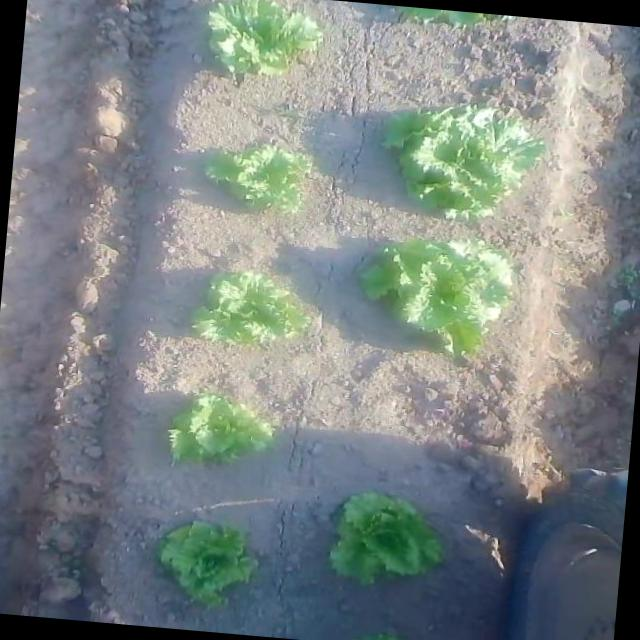Lettuce-Ready-to-Harvest: (379, 97, 545, 225), (352, 229, 522, 351), (324, 488, 448, 588), (154, 512, 266, 614), (200, 0, 327, 85), (192, 264, 315, 349), (164, 387, 278, 478), (198, 134, 318, 215)
